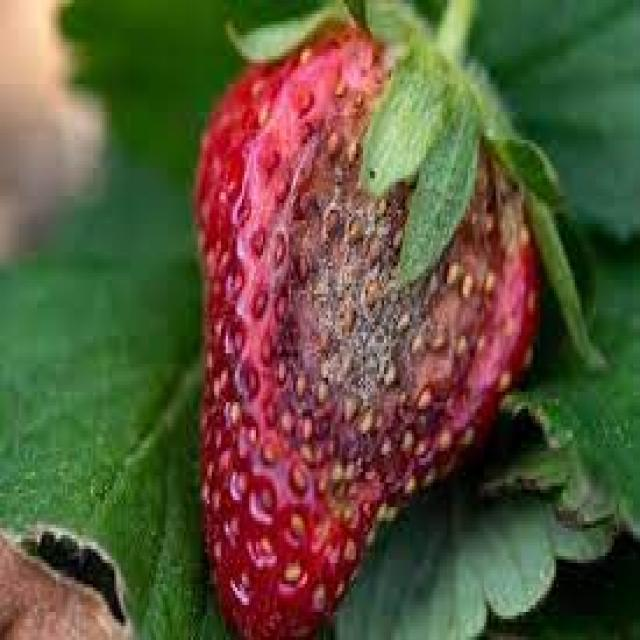Mancha negra Antracnosis: (190, 21, 550, 640)
